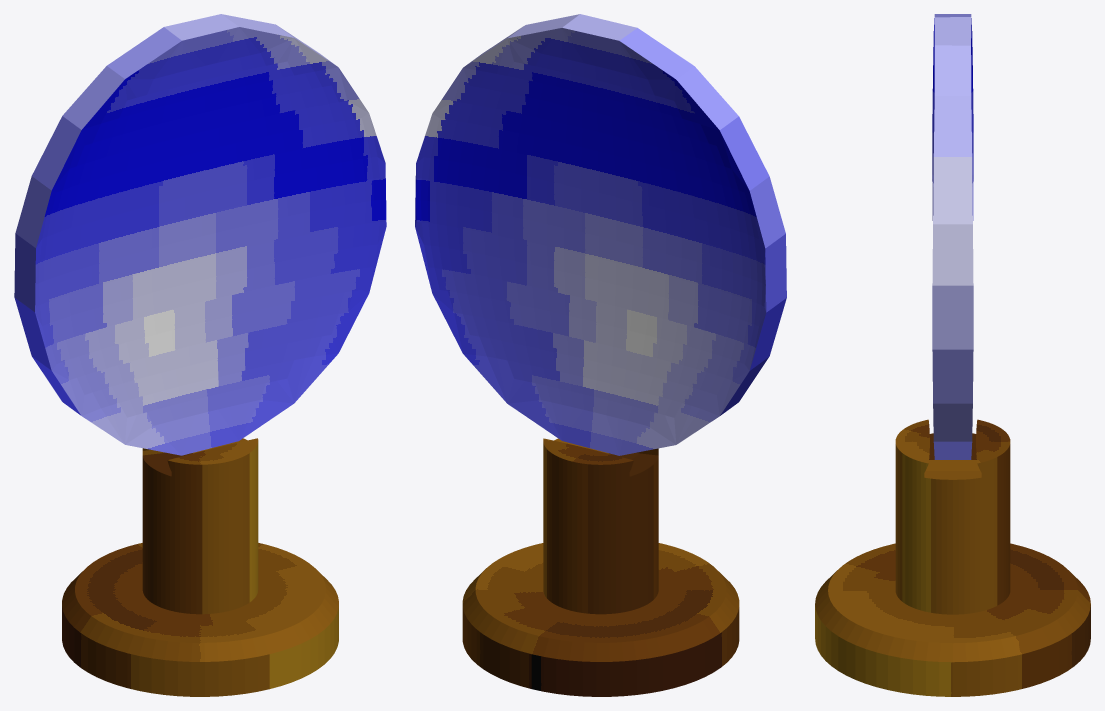
Rendered from lens_726_00.gltf.
3 views of the same model, side by side, from view 1: azimuth 30°, elevation 25°; view 2: azimuth 150°, elevation 25°; view 3: azimuth 270°, elevation 25° (orthographic).
Parts seen in each view (by area): view 1: Concave_lens, Base, Stem.001; view 2: Concave_lens, Base, Stem.001; view 3: Base, Stem.001, Concave_lens.
Part boxes in pixels (x1=…): Concave_lens: x1=14, y1=14, x2=386, y2=455; Base: x1=62, y1=543, x2=338, y2=696; Stem.001: x1=142, y1=438, x2=258, y2=614; Concave_lens: x1=415, y1=14, x2=786, y2=455; Base: x1=462, y1=543, x2=739, y2=696; Stem.001: x1=543, y1=438, x2=658, y2=614; Base: x1=815, y1=543, x2=1090, y2=696; Stem.001: x1=895, y1=419, x2=1010, y2=614; Concave_lens: x1=932, y1=14, x2=973, y2=459.
Bounding box in the file's own units: 1.97 × 3.27 × 1.34.
2 materials, 2 textured.
